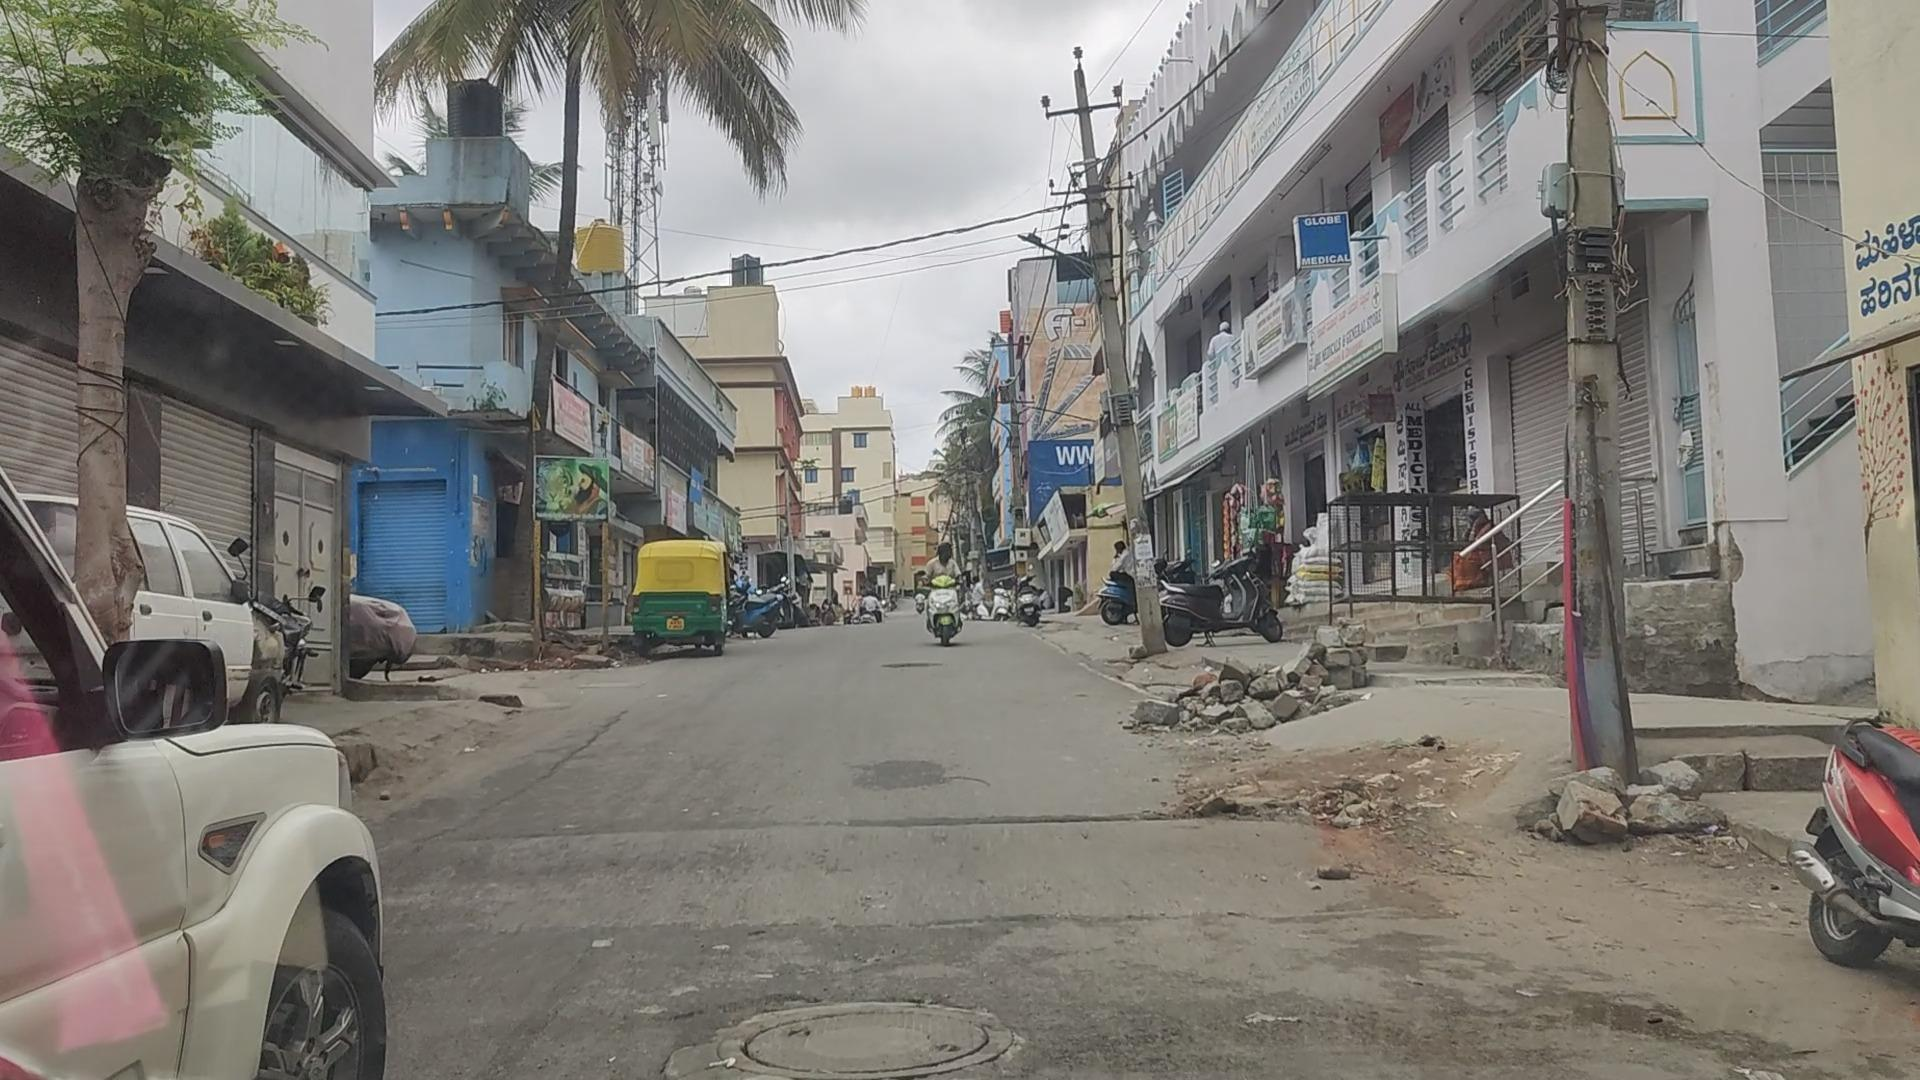RoadDamages: (684, 942, 1017, 1080), (998, 794, 1248, 847)
